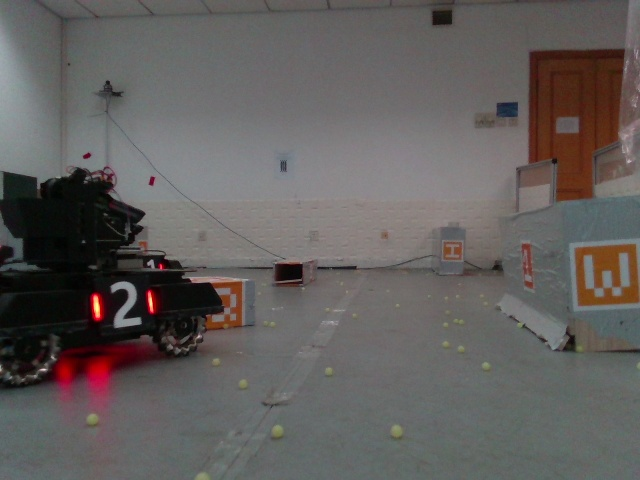Robot_Red: (1, 164, 232, 384)
armor_Red: (91, 281, 155, 328), (141, 259, 166, 270)
